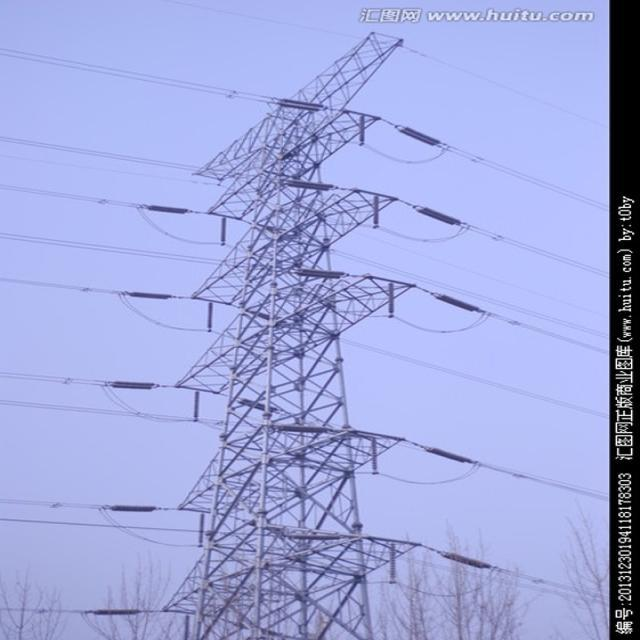non-critical vegetation: (172, 42, 451, 588)
